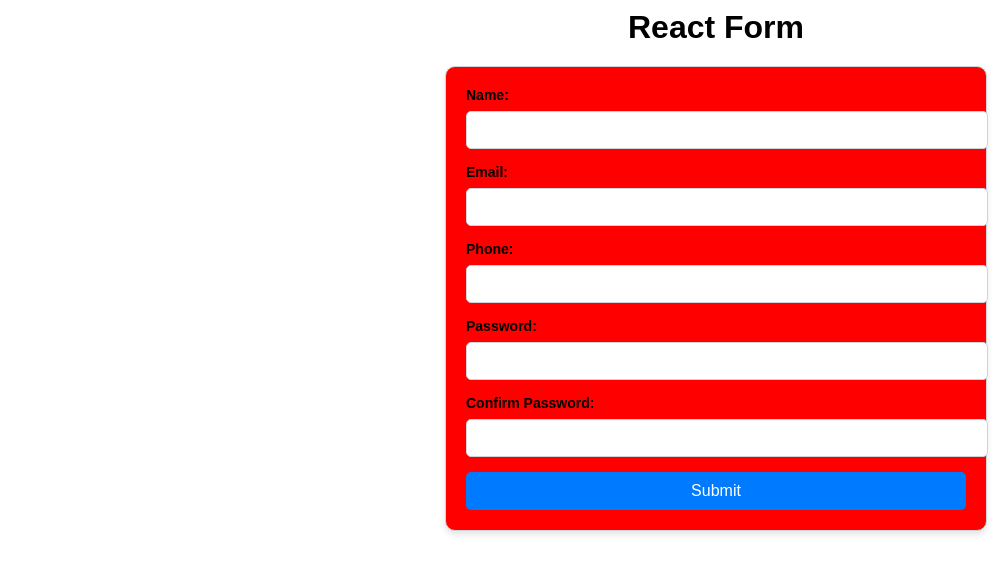
it: Form Validation Tests › should show an error for an invalid phone number
This screenshot has width=1005, height=581.
Type "John Doe" into the field labelled "Name:".
click(727, 130); type("John Doe")  # box [466, 111, 988, 149]
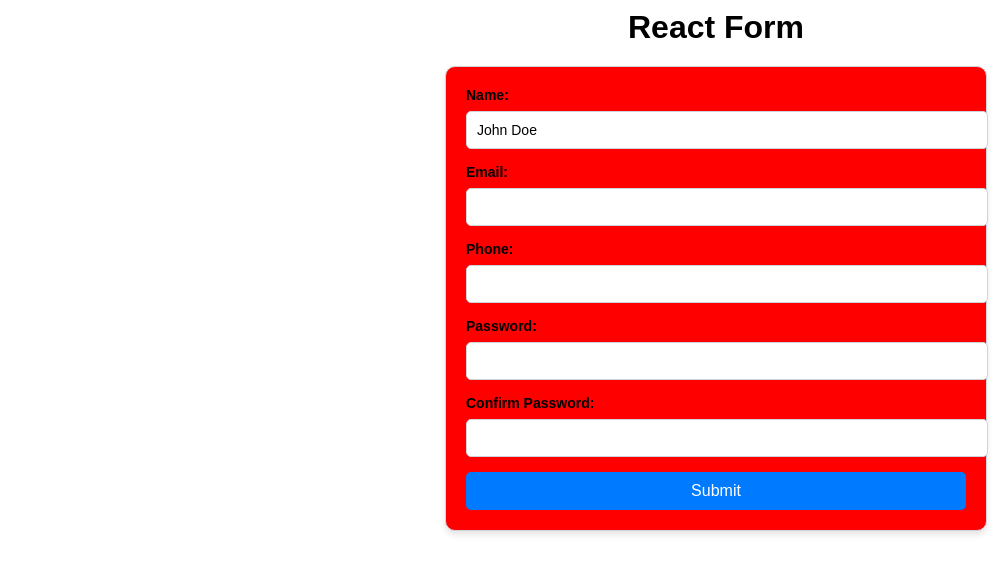
Type "john.doe@example.com" into the field labelled "Email:".
click(727, 207); type("john.doe@example.com")  # box [466, 188, 988, 226]
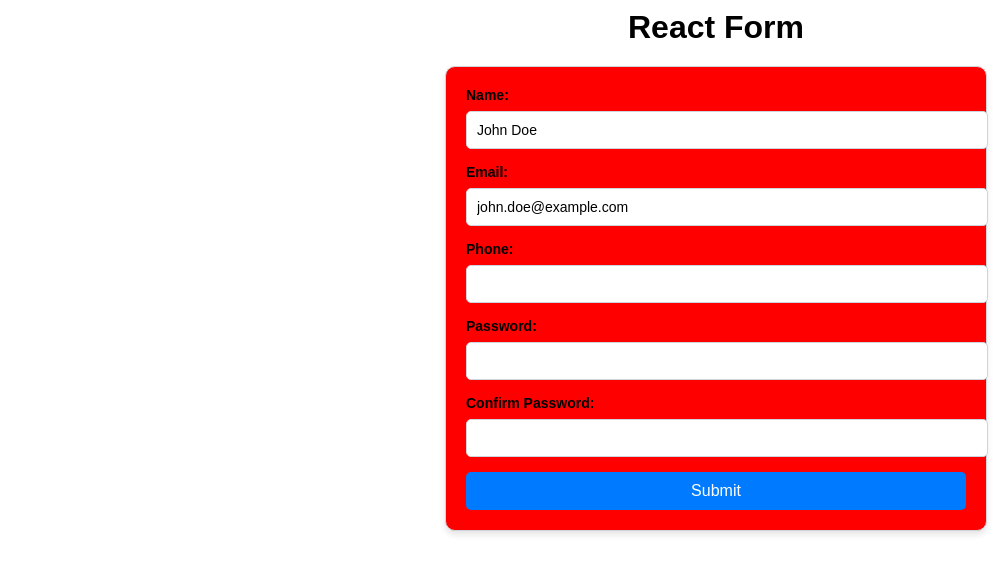
Type "password123" into the password field labelled "Password:".
click(727, 361); type("password123")  # box [466, 342, 988, 380]
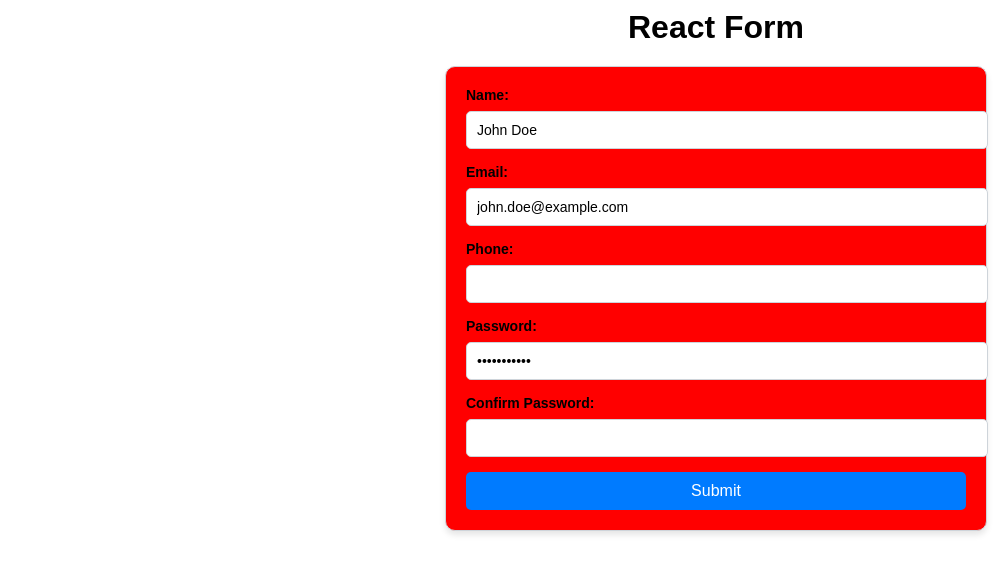
Type "password123" into the password field labelled "Confirm Password:".
click(727, 438); type("password123")  # box [466, 419, 988, 457]
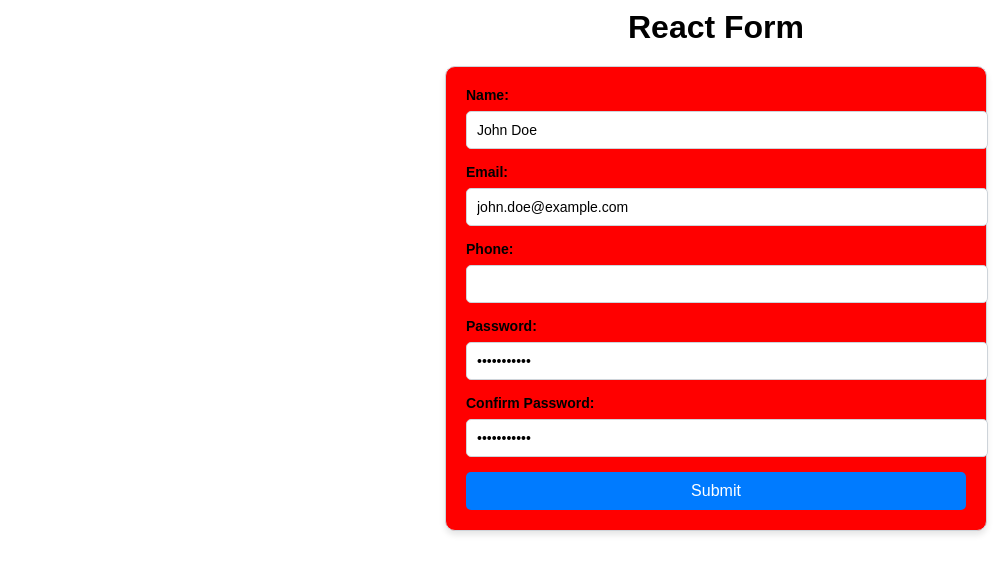
Type "12345" into the field labelled "Phone:".
click(727, 284); type("12345")  # box [466, 265, 988, 303]
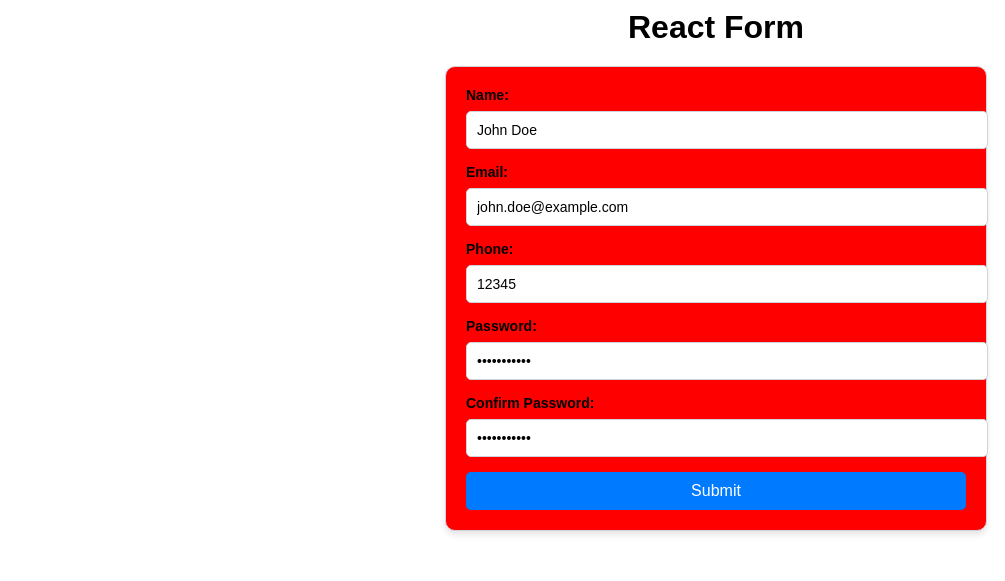
Click the button "Submit".
click(716, 491)  # box [466, 472, 966, 510]
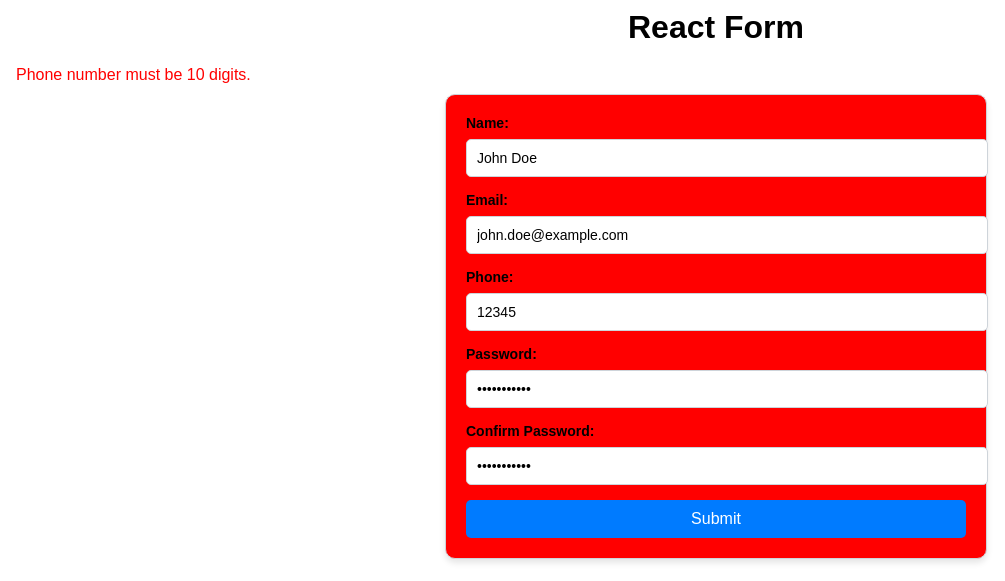
Now the text "Phone number must be 10 digits." is shown, box [16, 66, 251, 83]
